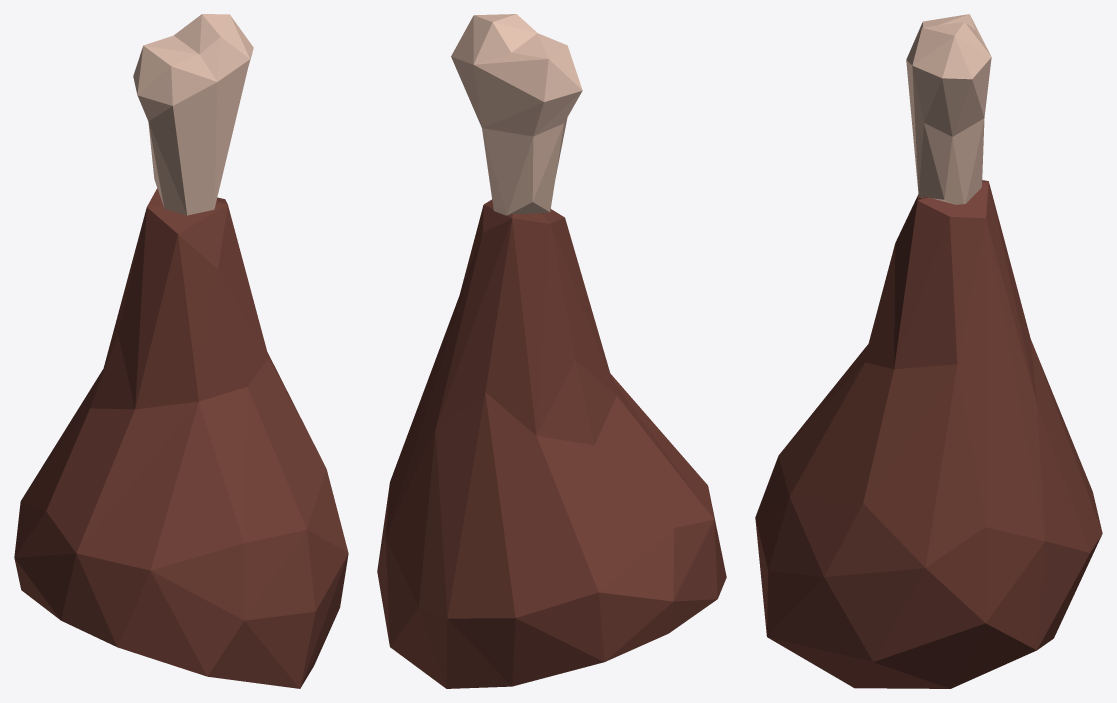
File: fantasy_food_ham.fbx
3 views of the same model, side by side, from view 1: azimuth 30°, elevation 25°; view 2: azimuth 150°, elevation 25°; view 3: azimuth 270°, elevation 25° (orthographic). The views are drawn at different scales.
Visible parts, largest first — view 1: Cylinder.031; view 2: Cylinder.031; view 3: Cylinder.031.
Boxes of the visible parts, x1,y1,x2,y2 form: Cylinder.031: (14,14,348,688); Cylinder.031: (377,14,726,688); Cylinder.031: (755,14,1102,688).
Size of the model in its own units: 20.74 by 43.48 by 21.44.
